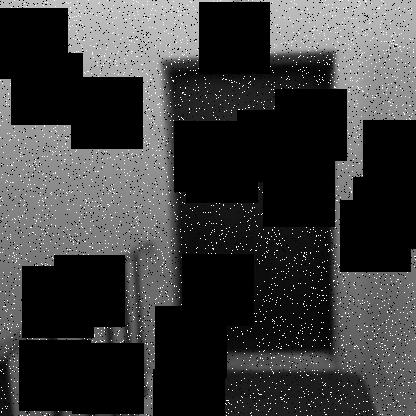Porte: (165, 62, 335, 355)
